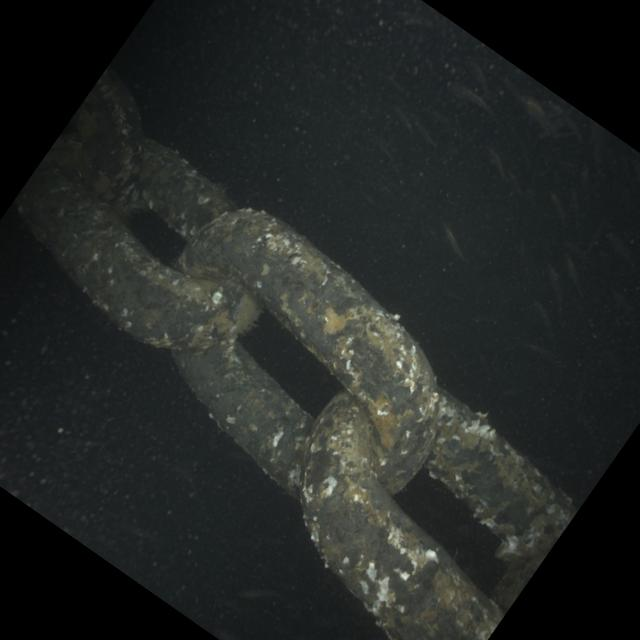ChainLink: (181, 208, 438, 491), (300, 392, 576, 640), (13, 136, 257, 350), (173, 339, 312, 494), (71, 68, 142, 211), (131, 140, 231, 240)
